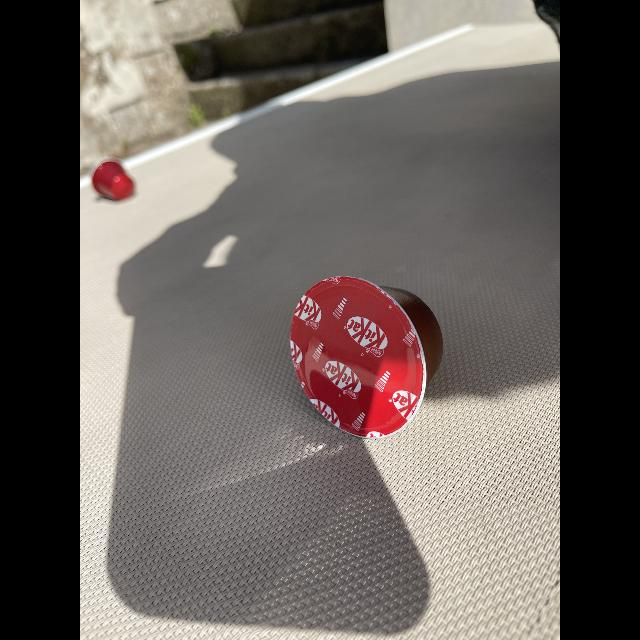intact_capsule: (282, 266, 456, 444)
